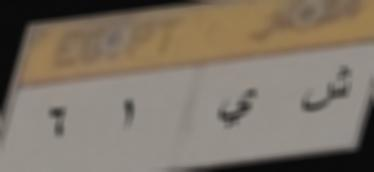1: (116, 88, 140, 141)
6: (42, 100, 70, 146)
sheen: (296, 61, 359, 123)
yaa: (213, 80, 261, 136)
